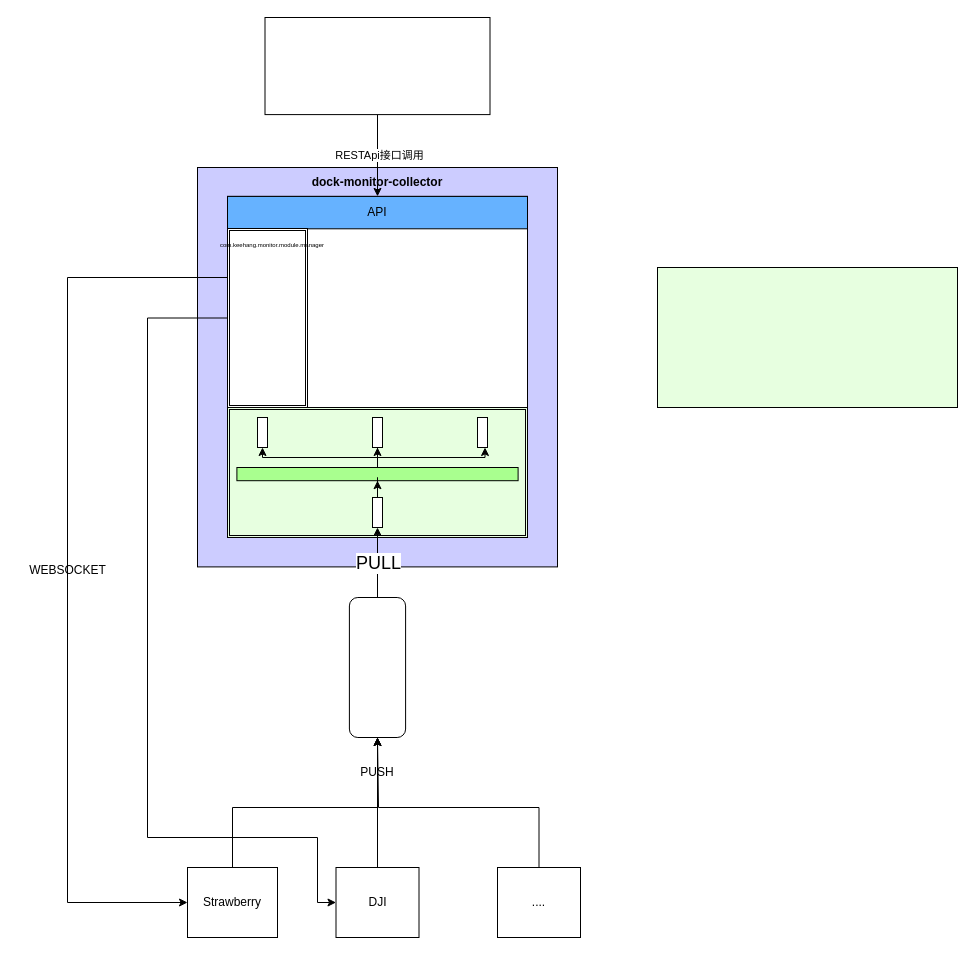
The diagram is 975 pixels wide and 955 high, and some of its shapes have lost their labels. The centre of each missing label's shape, as x and y in pixels:
KAFKA: (x=377, y=667)
KafkaInboundMessageRouter: (x=377, y=473)
UI: (x=377, y=65)
